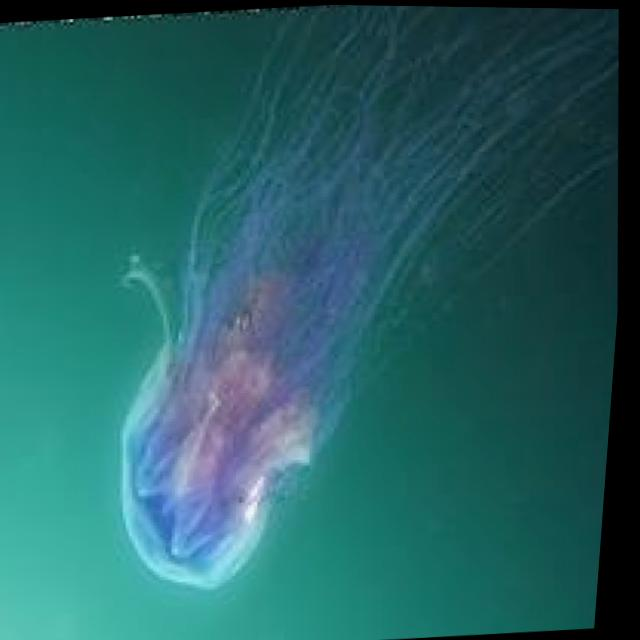Box-jellyfish: (86, 1, 640, 600)
